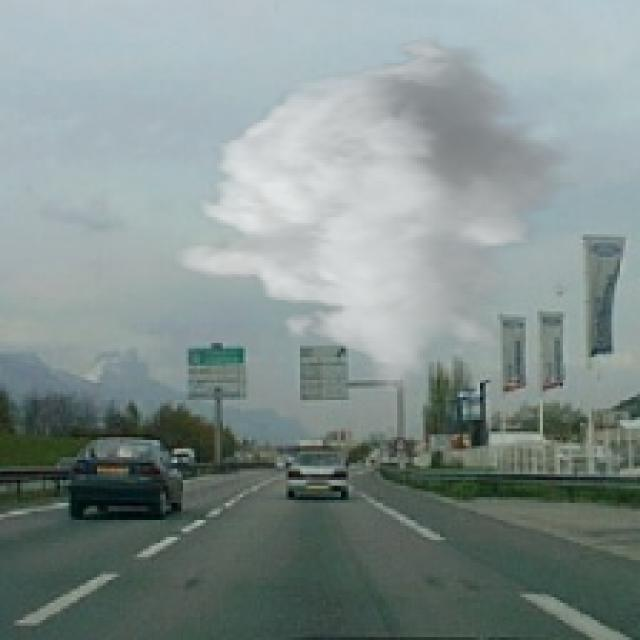smoke: (171, 34, 580, 394)
